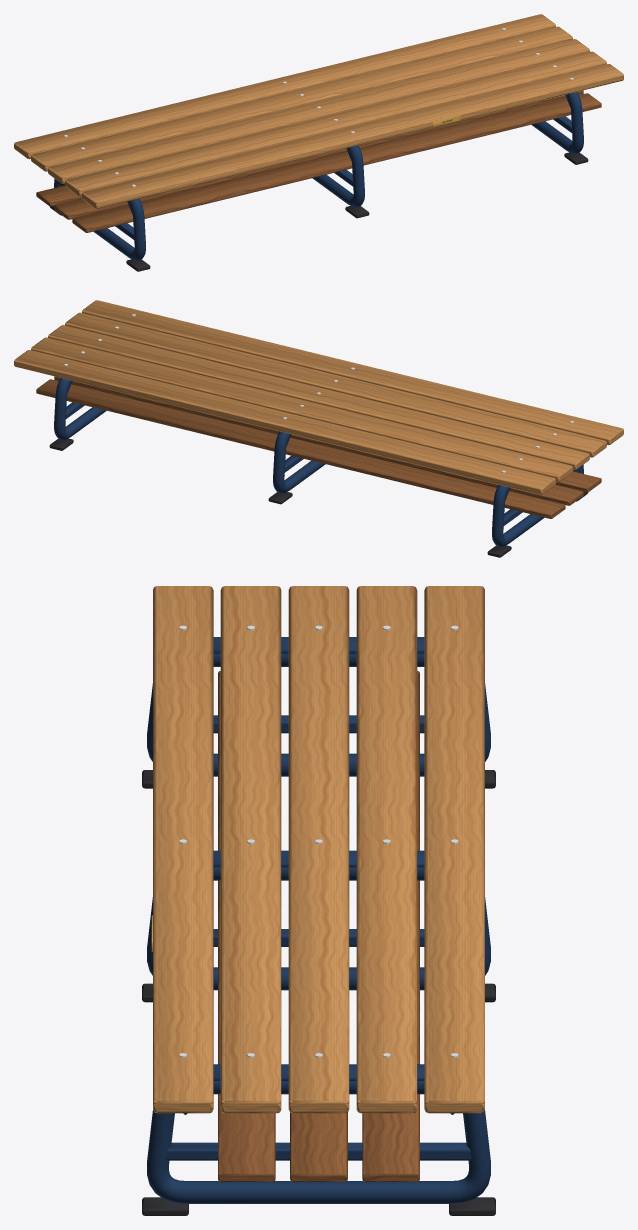
File: bench.glb
3 renders of one model, top to bottom at view 1: azimuth 30°, elevation 25°; view 2: azimuth 150°, elevation 25°; view 3: azimuth 270°, elevation 25°, orthographic. The views are drawn at different scales.
Parts seen in each view (by area): view 1: BenchMesh; view 2: BenchMesh; view 3: BenchMesh.
Boxes of the visible parts, x1,y1,x2,y2 form: BenchMesh: (14, 14, 623, 271); BenchMesh: (14, 300, 623, 557); BenchMesh: (142, 586, 495, 1215).
Bounding box in the file's own units: 3.38 × 0.476 × 0.98.
Materials: 7 (2 with a texture image).
